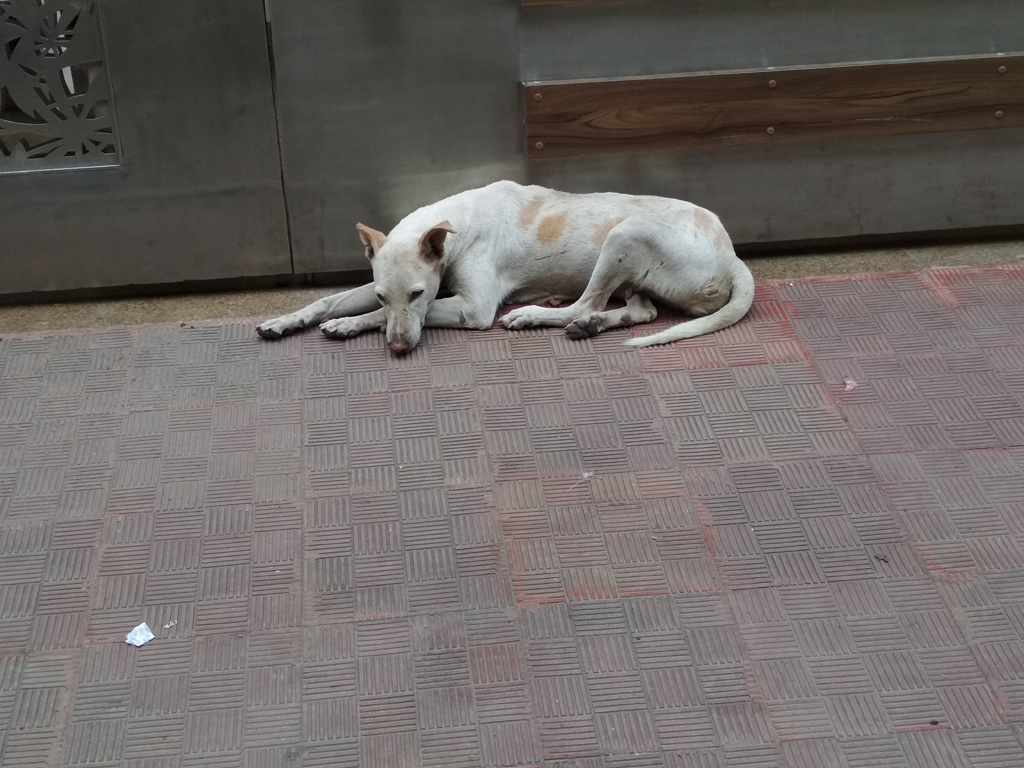dog: (256, 179, 757, 360)
